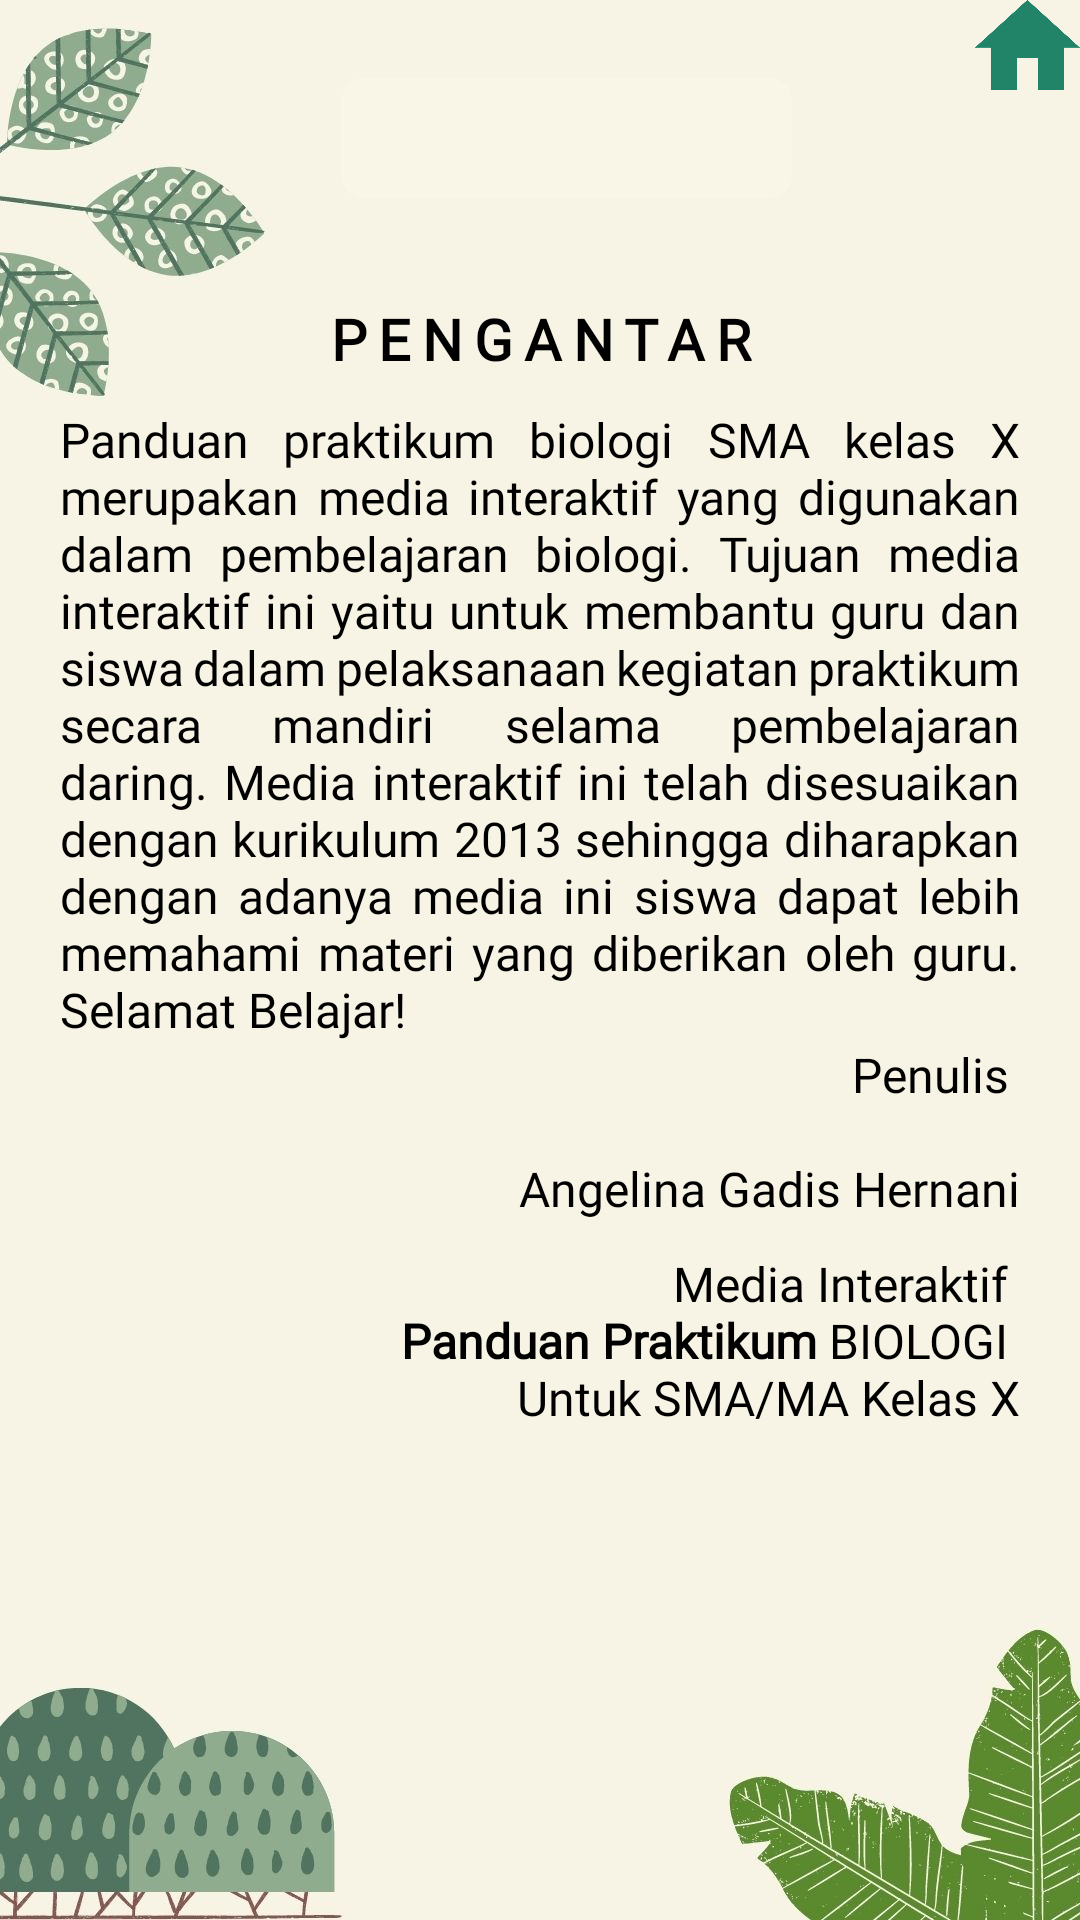

Point at icon controls on the screen. Image size 1080×1920, points as point (x, y).
home: point (1027, 45)
